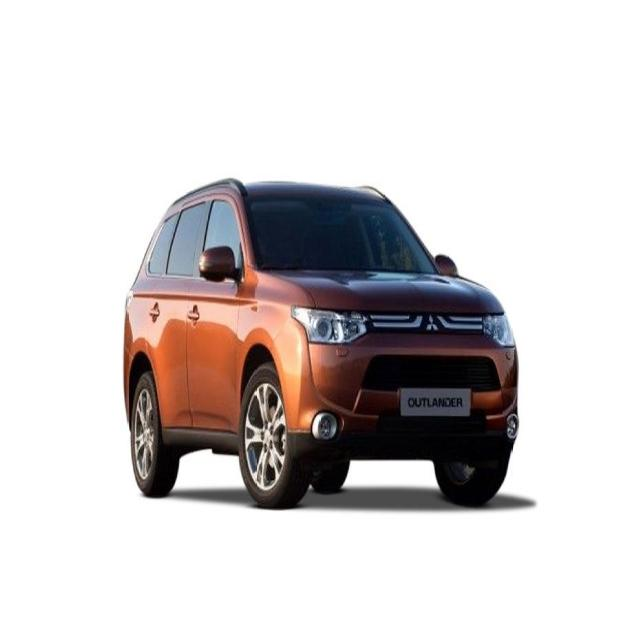light_vehicle: (122, 177, 521, 509)
